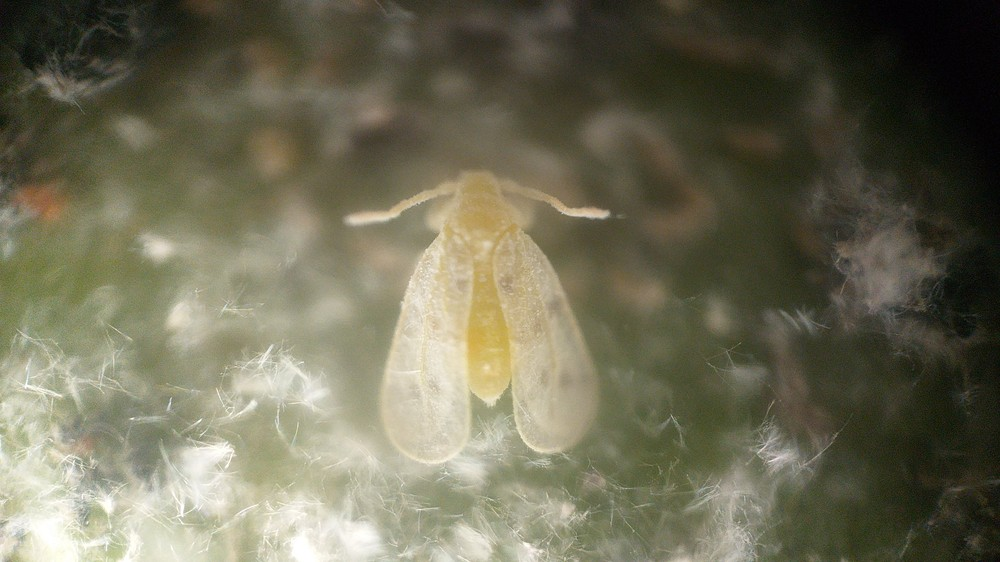Mosca Blanca: (326, 145, 627, 469)
